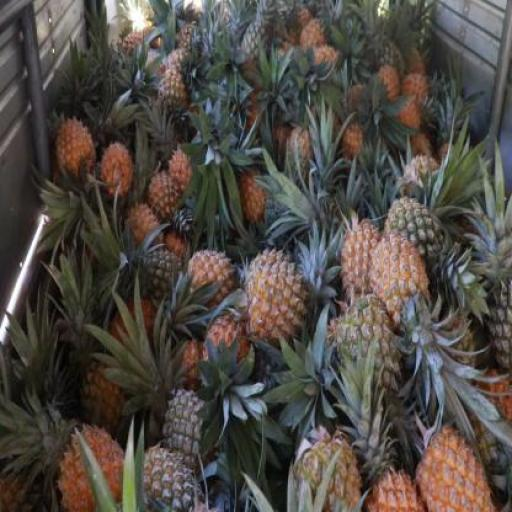------------------------------: (326, 308, 396, 407), (384, 200, 448, 298), (86, 359, 136, 434), (158, 73, 192, 131)
Pineapple - v8 v1: (418, 428, 498, 511), (60, 424, 134, 511), (374, 235, 436, 337), (246, 248, 309, 344), (342, 225, 392, 314), (206, 315, 251, 394), (58, 114, 98, 175), (192, 249, 234, 306), (101, 144, 132, 204), (148, 169, 186, 216)
